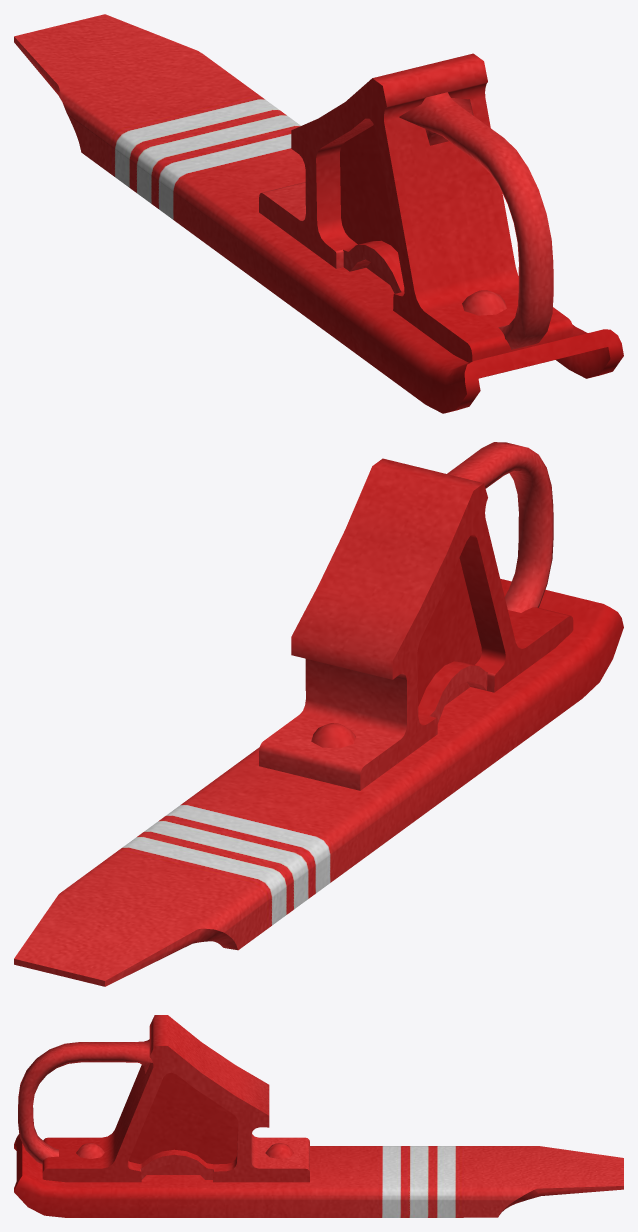
File: rail_skid.gltf
The picture shows the model from 3 angles, top to bottom: view 1: azimuth 30°, elevation 25°; view 2: azimuth 150°, elevation 25°; view 3: azimuth 270°, elevation 25°; orthographic projection. The views are drawn at different scales.
Visible parts, largest first — view 1: Rail_skid; view 2: Rail_skid; view 3: Rail_skid.
Boxes of the visible parts, box(x1,y1,x2,y2) form: Rail_skid: box(14, 14, 623, 413); Rail_skid: box(14, 442, 623, 986); Rail_skid: box(14, 1015, 623, 1217).
Bounding box in the file's own units: 0.093 × 0.1475 × 0.499.
Materials: 1 (1 with a texture image).
